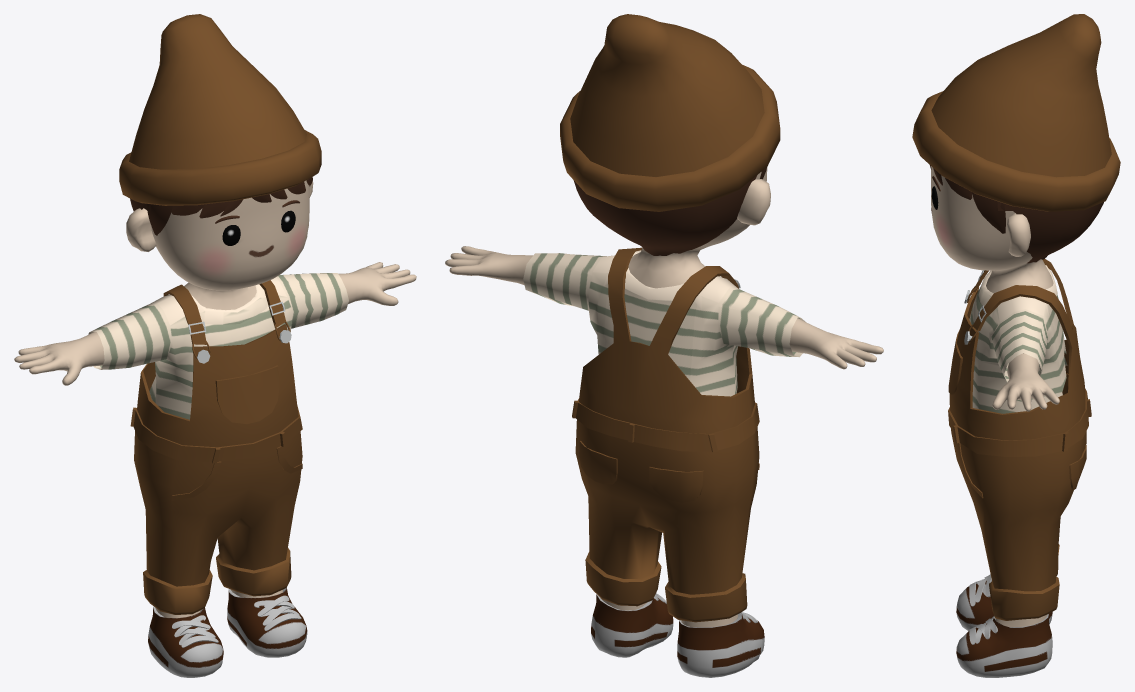
Rendered from Hero_final.fbx.
3 renders of one model, left to right at view 1: azimuth 30°, elevation 25°; view 2: azimuth 150°, elevation 25°; view 3: azimuth 270°, elevation 25°, orthographic. The views are drawn at different scales.
Parts seen in each view (by area): view 1: melbbang, Cylinder, shirts, face, shoes, hand feet, belt, big pocket, Plane.002, ear, JUMEONI; view 2: melbbang, Cylinder, shirts, shoes, back hair, hand feet, belt, face, small pocket, ear; view 3: Cylinder, melbbang, shirts, face, shoes, back hair, belt, hand feet, Plane.002, ear, Retopo_hair.007, big pocket (+1 smaller).
Boxes of the visible parts, x1=… form: melbbang: x1=134, y1=280, x2=302, y2=614; Cylinder: x1=119, y1=14, x2=321, y2=205; shirts: x1=88, y1=273, x2=348, y2=419; face: x1=151, y1=180, x2=309, y2=310; shoes: x1=148, y1=588, x2=307, y2=677; hand feet: x1=14, y1=262, x2=416, y2=618; belt: x1=130, y1=406, x2=302, y2=463; big pocket: x1=215, y1=365, x2=279, y2=423; Plane.002: x1=172, y1=595, x2=301, y2=647; ear: x1=126, y1=181, x2=313, y2=251; JUMEONI: x1=171, y1=446, x2=302, y2=500; melbbang: x1=575, y1=247, x2=759, y2=622; Cylinder: x1=560, y1=14, x2=780, y2=211; shirts: x1=523, y1=250, x2=805, y2=396; shoes: x1=591, y1=594, x2=764, y2=677; back hair: x1=573, y1=168, x2=765, y2=255; hand feet: x1=445, y1=246, x2=883, y2=627; belt: x1=572, y1=398, x2=759, y2=452; face: x1=628, y1=167, x2=767, y2=288; small pocket: x1=579, y1=441, x2=703, y2=502; ear: x1=737, y1=179, x2=770, y2=225; Cylinder: x1=912, y1=14, x2=1120, y2=211; melbbang: x1=949, y1=259, x2=1086, y2=620; shirts: x1=969, y1=265, x2=1067, y2=413; face: x1=931, y1=166, x2=1053, y2=292; shoes: x1=956, y1=580, x2=1052, y2=677; back hair: x1=997, y1=201, x2=1103, y2=263; belt: x1=948, y1=373, x2=1091, y2=456; hand feet: x1=992, y1=353, x2=1059, y2=627; Plane.002: x1=969, y1=574, x2=997, y2=644; ear: x1=1007, y1=213, x2=1030, y2=256; Retopo_hair.007: x1=972, y1=192, x2=1005, y2=233; big pocket: x1=948, y1=329, x2=962, y2=394.
Size of the model in its own units: 222 by 332 by 99.44.
Materials: 4 (4 with a texture image).
